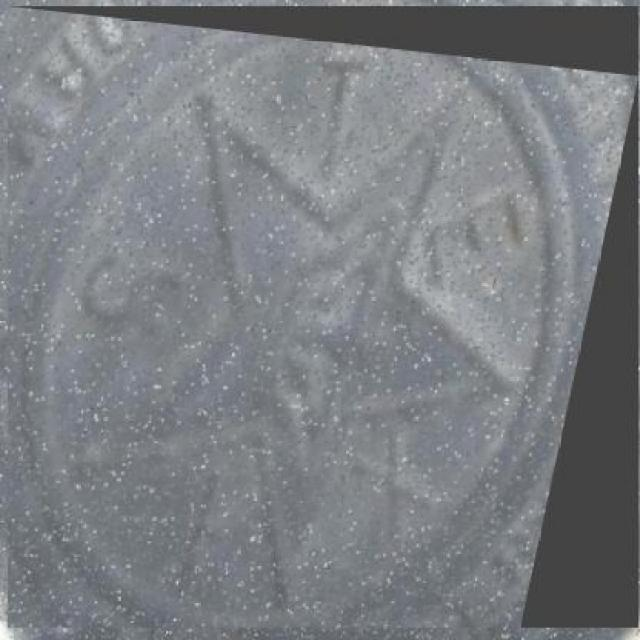Manhole: (7, 6, 638, 628)
